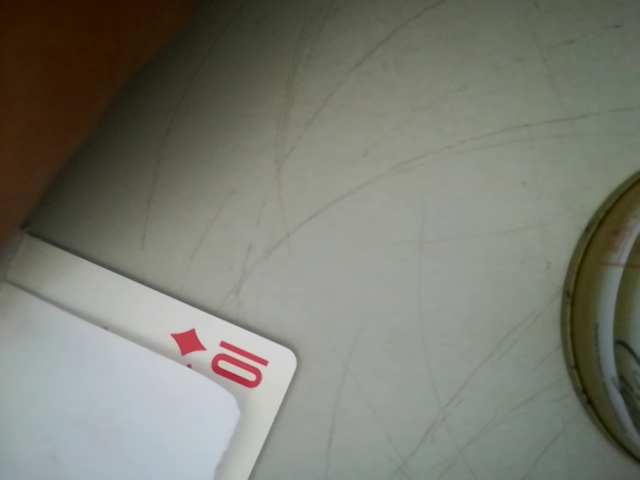fk 10: (156, 327, 282, 394)
